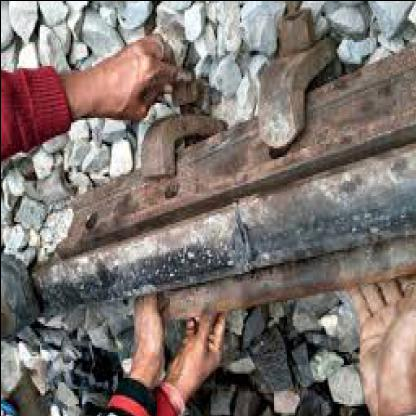Defective 2: (197, 152, 299, 314)
